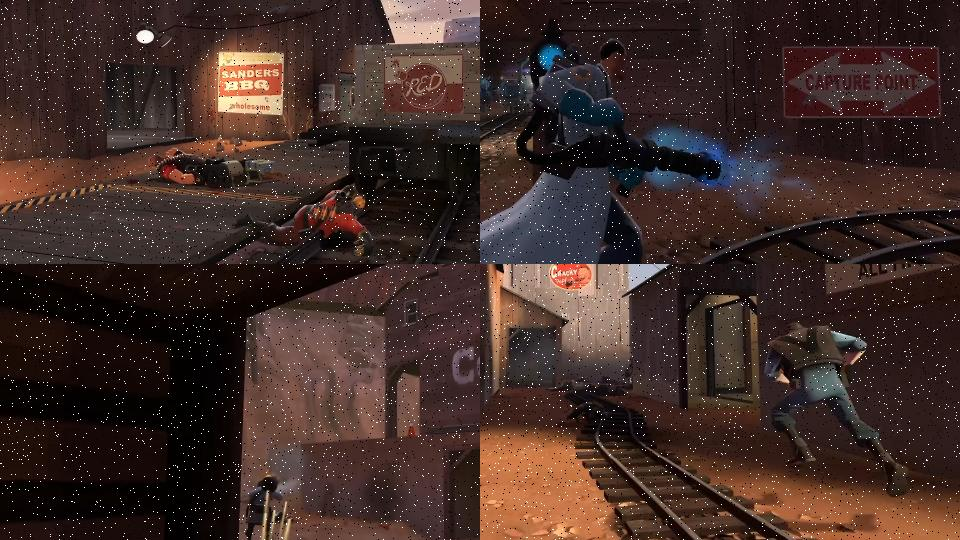Enemy: (480, 38, 722, 264), (762, 320, 912, 497), (235, 182, 377, 259), (148, 147, 250, 188), (245, 476, 283, 540), (480, 73, 501, 111)
